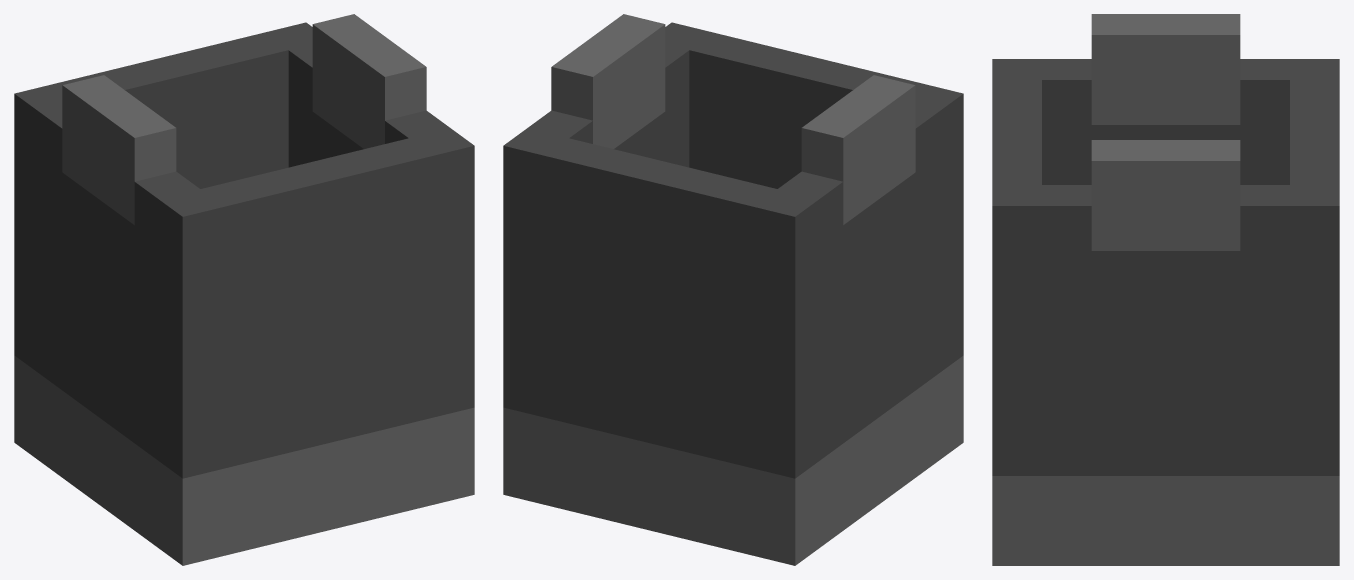
The model's file is bucket.obj.
3 views of the same model, side by side, from view 1: azimuth 30°, elevation 25°; view 2: azimuth 150°, elevation 25°; view 3: azimuth 270°, elevation 25° (orthographic). The views are drawn at different scales.
Bounding box in the file's own units: 7 × 9 × 7.
1 material, 1 textured.
